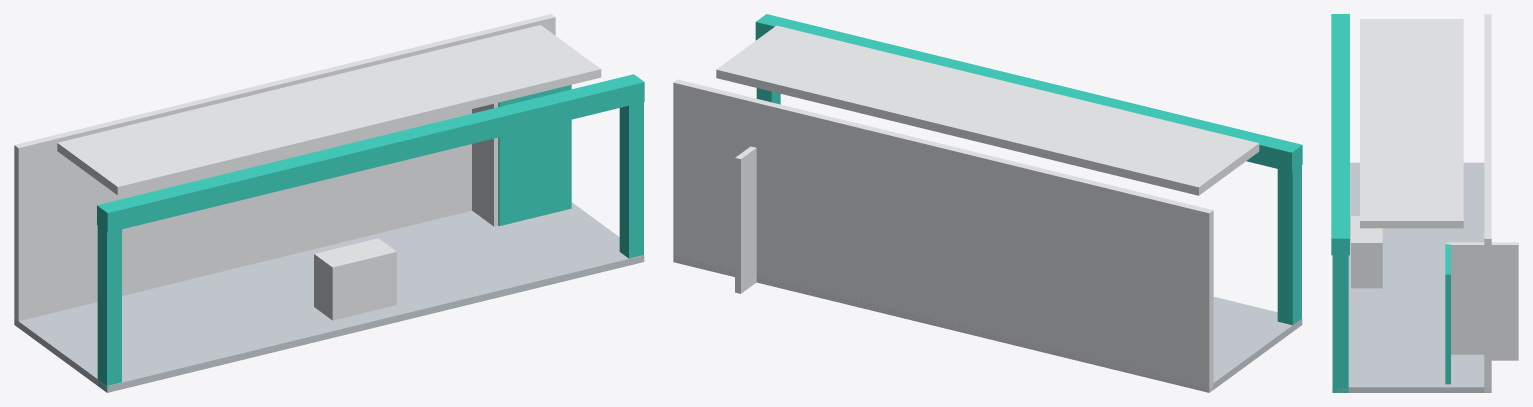
3 views of the same model, side by side, from view 1: azimuth 30°, elevation 25°; view 2: azimuth 150°, elevation 25°; view 3: azimuth 270°, elevation 25° (orthographic). The views are drawn at different scales.
Visible parts, largest first — view 1: Exhibition Booth Concept; view 2: Exhibition Booth Concept; view 3: Exhibition Booth Concept.
Boxes of the visible parts, box(x1,y1,x2,y2) form: Exhibition Booth Concept: box(14, 14, 644, 392); Exhibition Booth Concept: box(673, 14, 1302, 392); Exhibition Booth Concept: box(1331, 14, 1518, 392).
Size of the model in its own units: 10 by 3.34 by 3.52.
